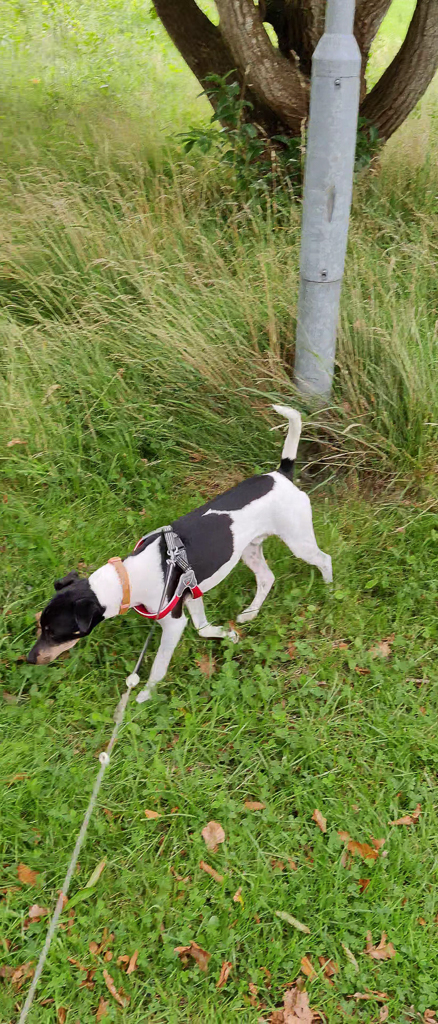Dog: (20, 398, 340, 711)
